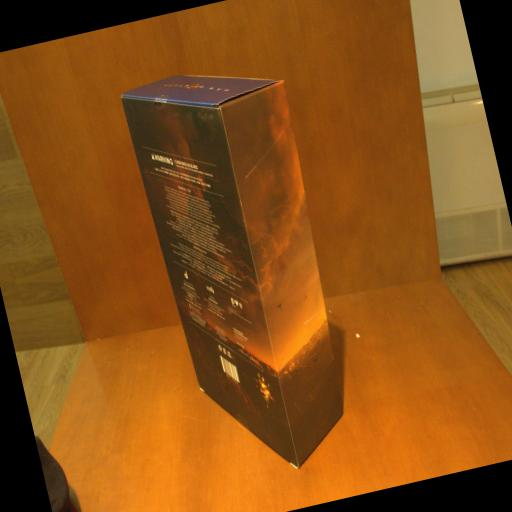superman: (116, 50, 370, 488)
